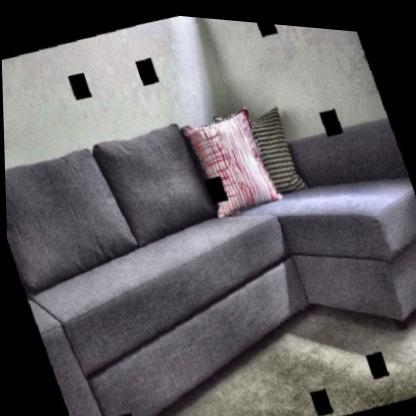Sofa: (1, 56, 416, 416)
